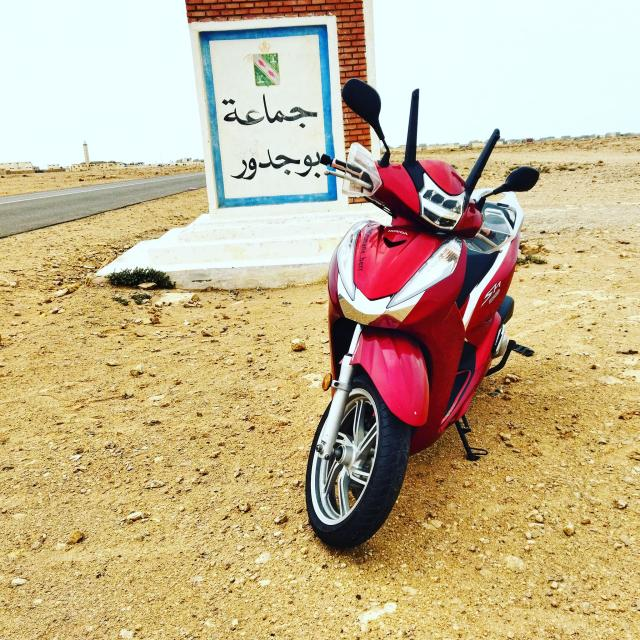Motorcycle: (306, 90, 540, 549)
